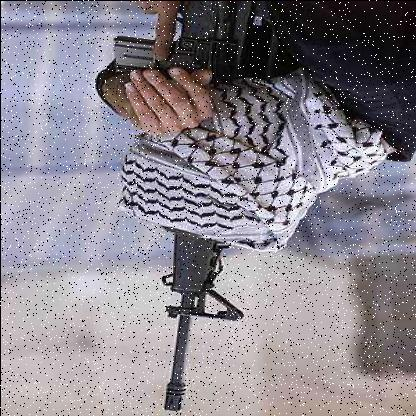rifle: (66, 1, 288, 416)
